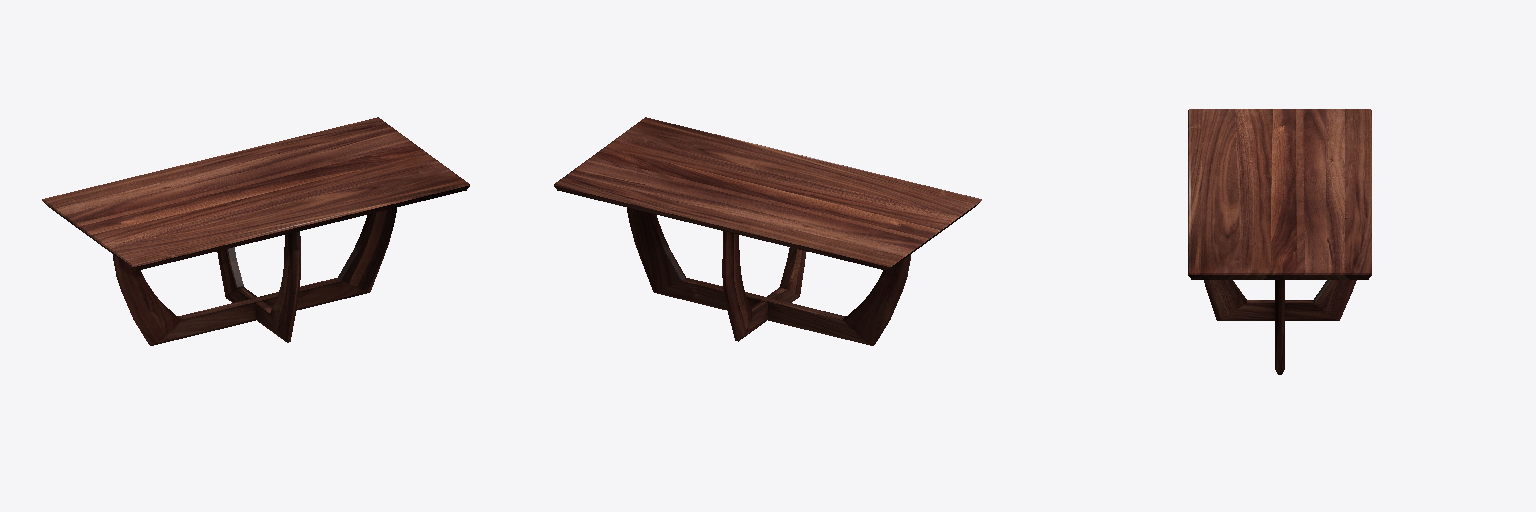
3 renders of one model, left to right at view 1: azimuth 30°, elevation 25°; view 2: azimuth 150°, elevation 25°; view 3: azimuth 270°, elevation 25°, orthographic.
Visible parts, largest first — view 1: Box008; view 2: Box008; view 3: Box008.
Boxes of the visible parts, x1,y1,x2,y2 form: Box008: [42, 117, 469, 345]; Box008: [554, 117, 981, 345]; Box008: [1188, 109, 1371, 374].
Size of the model in its own units: 2177 by 771 by 1073.
Materials: 2 (2 with a texture image).